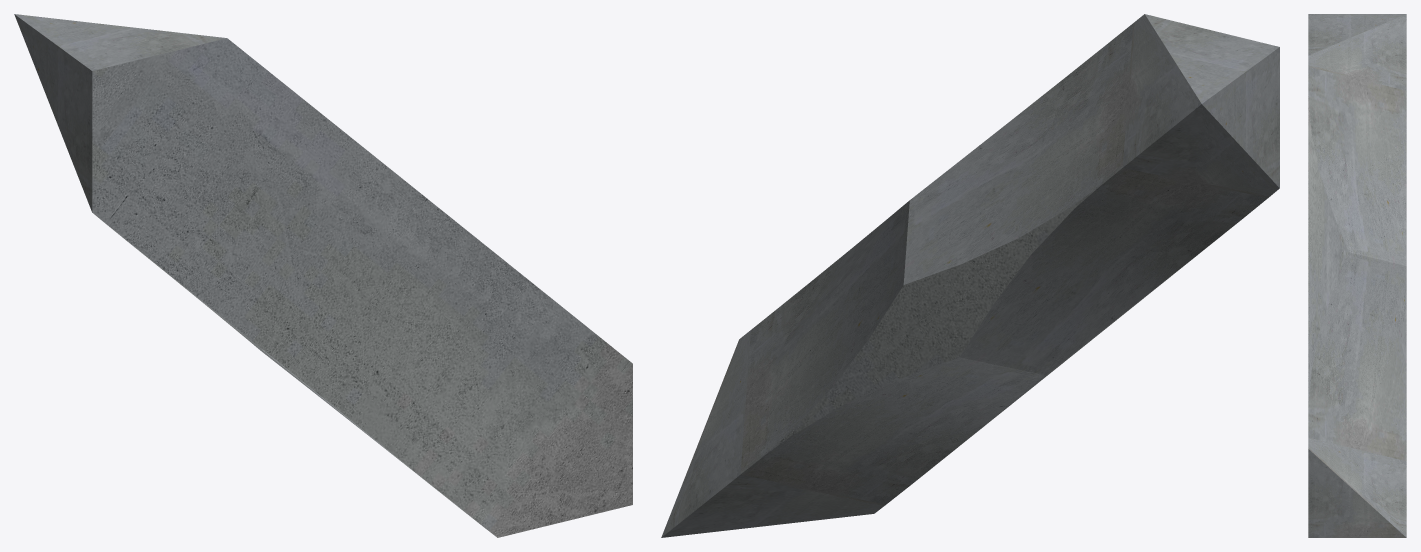
File: module_E.fbx
3 renders of one model, left to right at view 1: azimuth 30°, elevation 25°; view 2: azimuth 150°, elevation 25°; view 3: azimuth 270°, elevation 25°, orthographic. The views are drawn at different scales.
Visible parts, largest first — view 1: modules; view 2: modules; view 3: modules.
Part boxes in pixels (box(x1,y1,x2,y2)): modules: box(14, 14, 632, 537); modules: box(661, 14, 1279, 537); modules: box(1308, 14, 1406, 537).
Size of the model in its own units: 1000 by 250 by 1000.
Materials: 1 (1 with a texture image).
